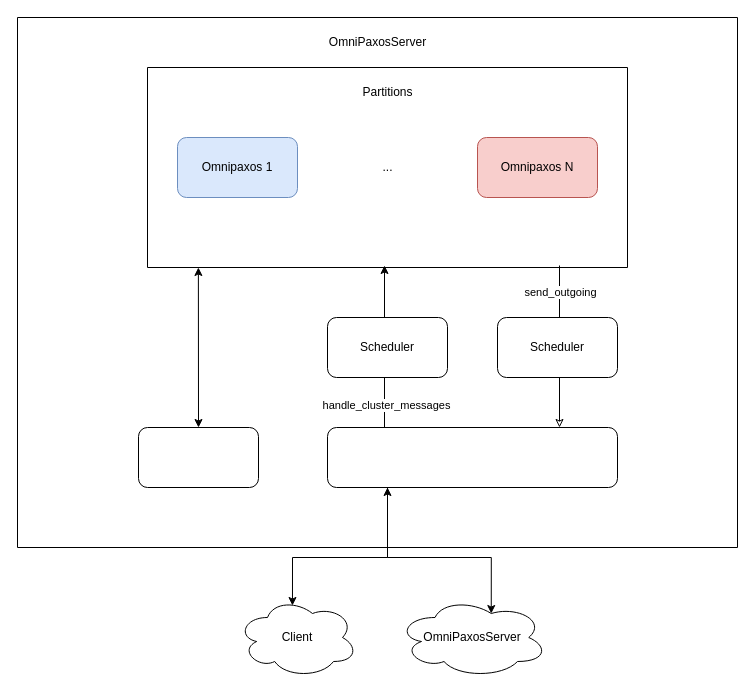
Some shapes in this 755 by 695 pixel diagram are drawn without their labels. Each missing label, with the centre of its shape:
"Database" belongs at (198,457).
"Network" belongs at (472,457).
